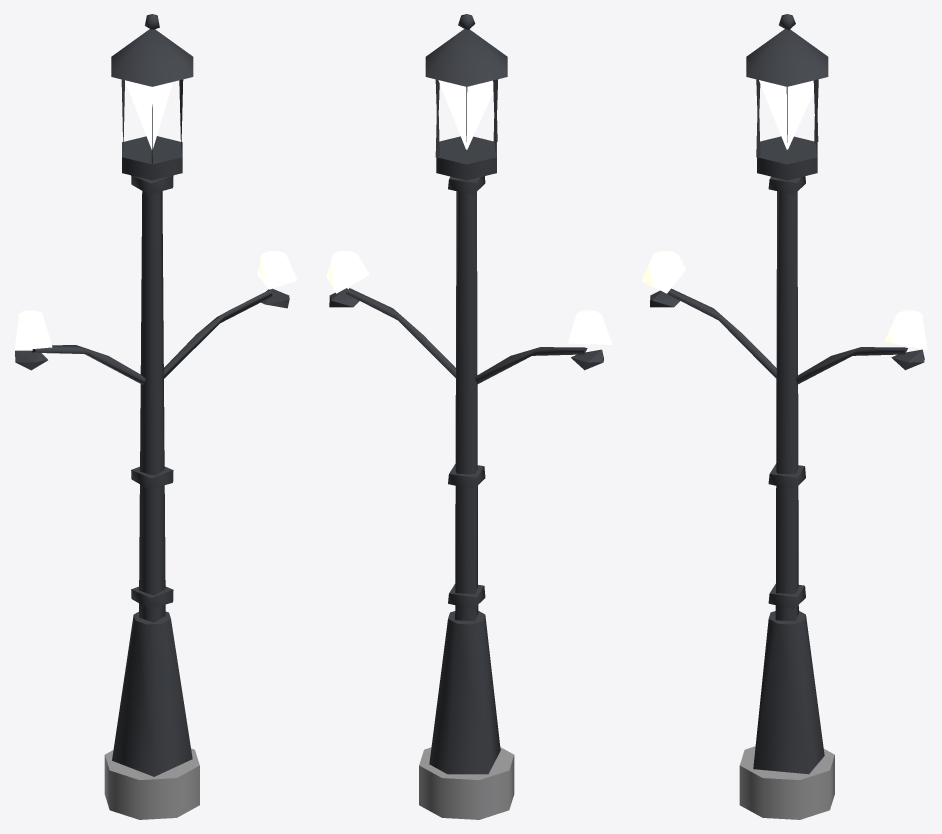
The model's file is prop_promenade_lamp_lod1.glb.
3 views of the same model, side by side, from view 1: azimuth 30°, elevation 25°; view 2: azimuth 150°, elevation 25°; view 3: azimuth 330°, elevation 25° (orthographic).
Visible parts, largest first — view 1: promenade_lamp_body_lod1, promenade_lamp_glass_lod1; view 2: promenade_lamp_body_lod1, promenade_lamp_glass_lod1; view 3: promenade_lamp_body_lod1, promenade_lamp_glass_lod1.
Boxes of the visible parts, x1,y1,x2,y2 form: promenade_lamp_body_lod1: [15, 14, 289, 819]; promenade_lamp_glass_lod1: [14, 80, 297, 350]; promenade_lamp_body_lod1: [329, 14, 603, 819]; promenade_lamp_glass_lod1: [326, 79, 612, 344]; promenade_lamp_body_lod1: [650, 14, 924, 819]; promenade_lamp_glass_lod1: [641, 79, 927, 349].
Size of the model in its own units: 1.87 by 4.93 by 0.56.
